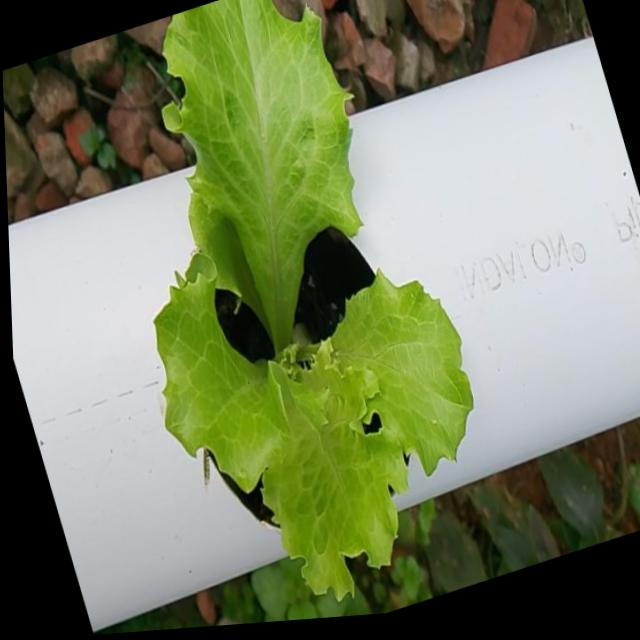Baby: (165, 0, 477, 586)
